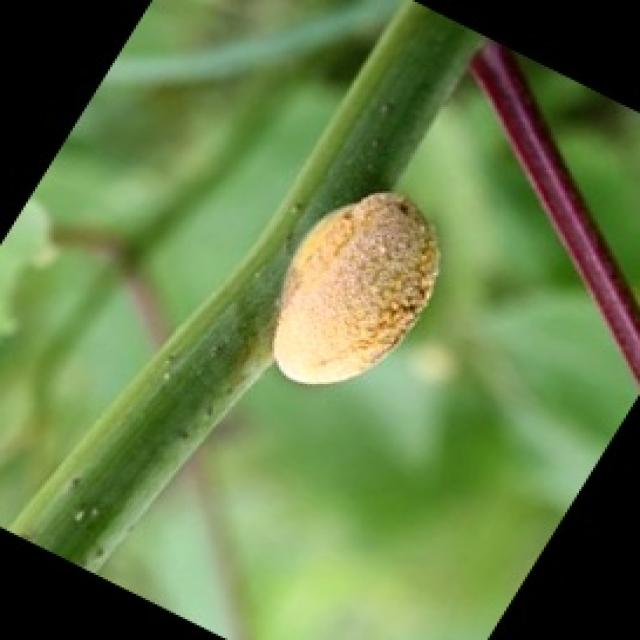Elderberry_rust: (264, 180, 516, 379)
